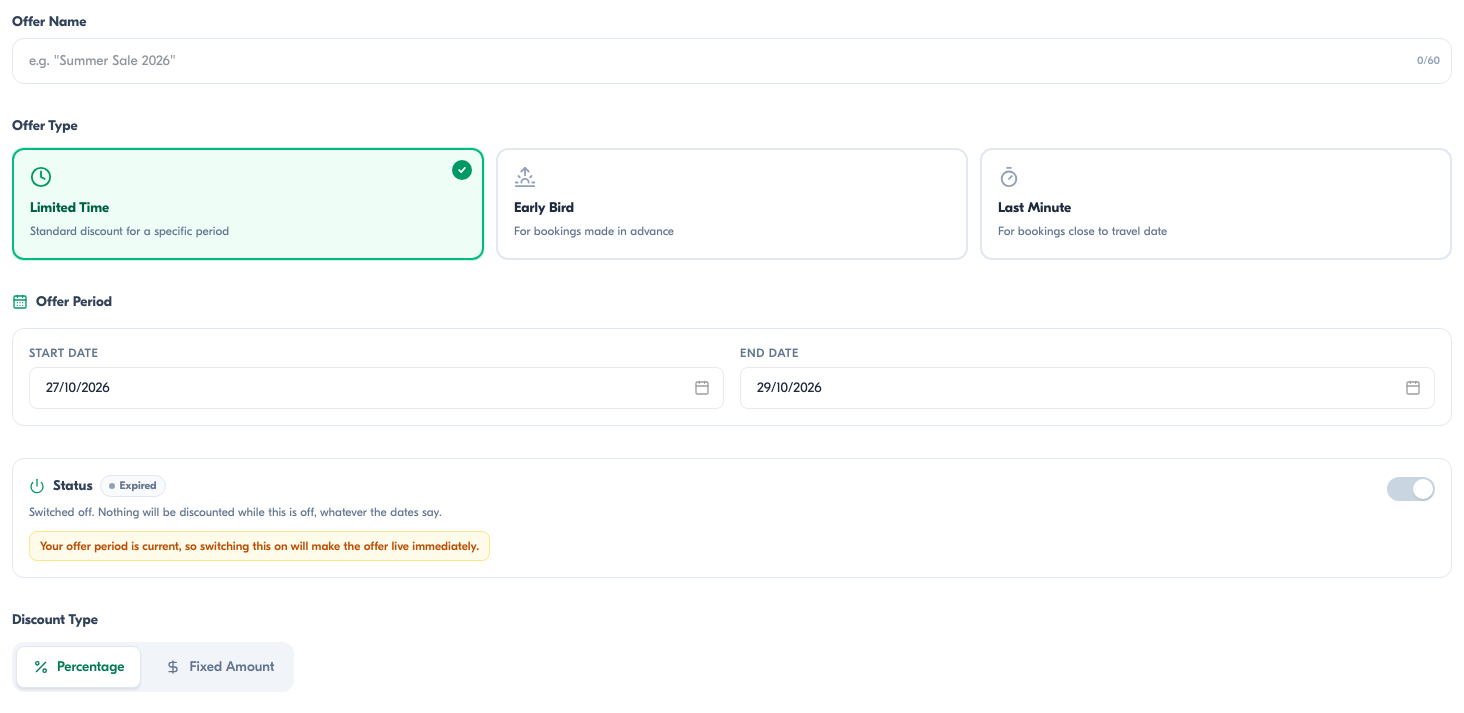
Test: Step2Details status control › flips the badge when the switch is toggled
What coordinates should you click on to do the following:
click the switch named "offer status"
I would click on:
 (1411, 488)
Its box is x1=1387 y1=476 x2=1435 y2=500.
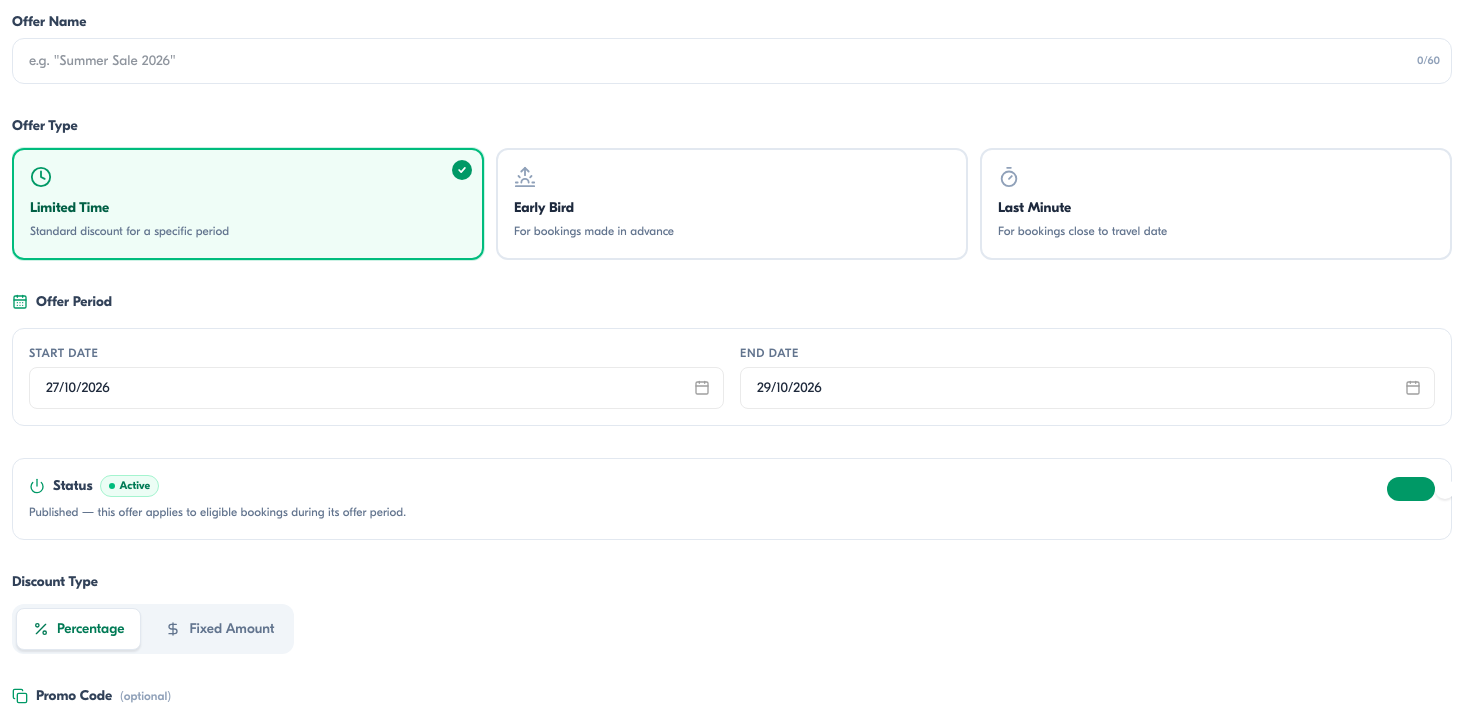
Expected: the element with test id "offer-status-badge" reads "Active", x1=120 y1=478 x2=150 y2=492
